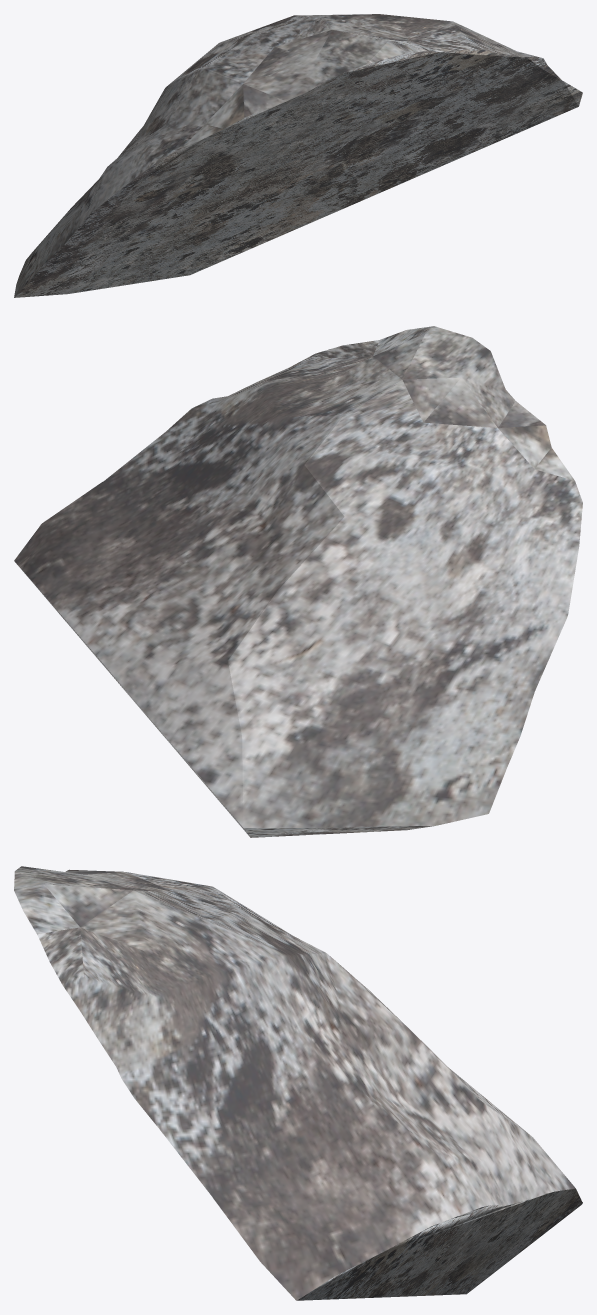
The model's file is Asteroid_Large_001_02_011.fbx.
The picture shows the model from 3 angles, top to bottom: view 1: azimuth 30°, elevation 25°; view 2: azimuth 150°, elevation 25°; view 3: azimuth 270°, elevation 25°; orthographic projection. The views are drawn at different scales.
Visible parts, largest first — view 1: Asteroid_Large_001_02_011; view 2: Asteroid_Large_001_02_011; view 3: Asteroid_Large_001_02_011.
Part boxes in pixels (left/top/right/bottom): Asteroid_Large_001_02_011: left=14, top=14, right=582, bottom=297; Asteroid_Large_001_02_011: left=14, top=326, right=582, bottom=837; Asteroid_Large_001_02_011: left=14, top=866, right=582, bottom=1300.
Bounding box in the file's own units: 25.34 × 17.05 × 21.14.
